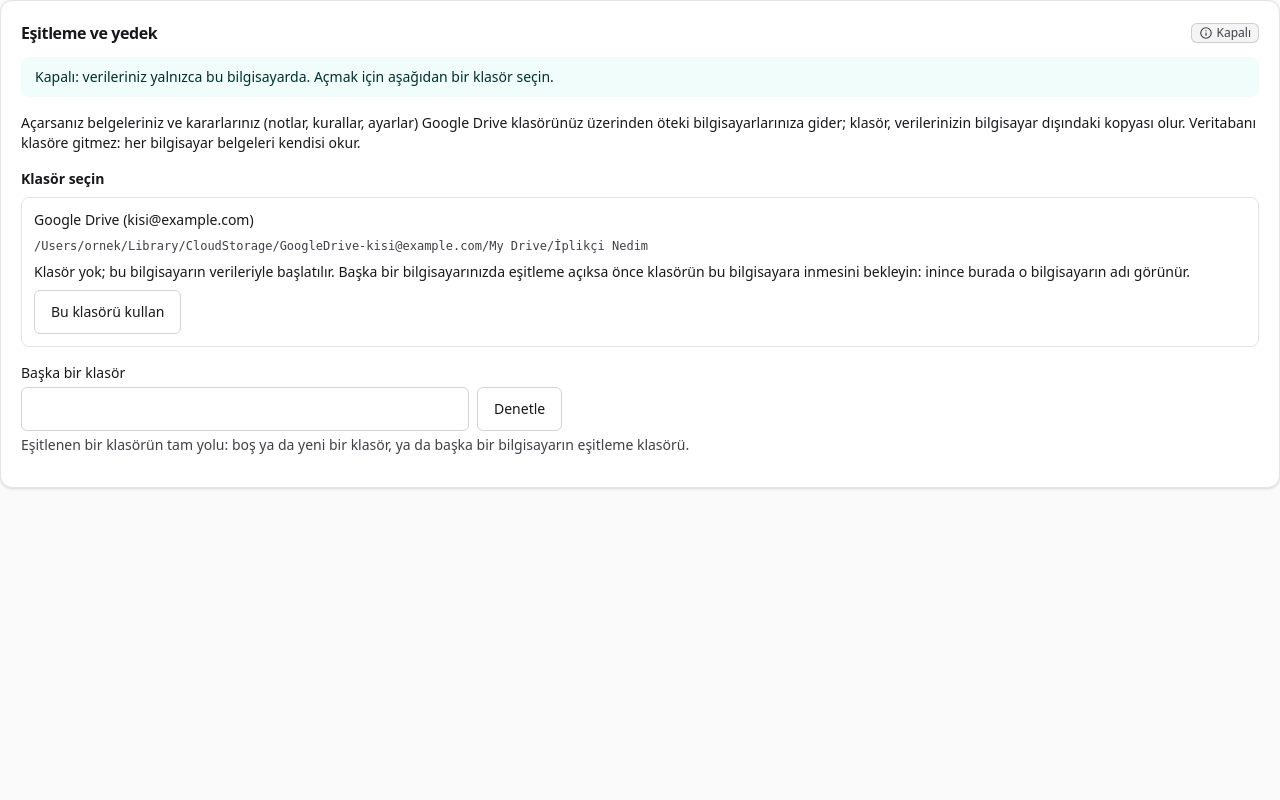
SyncCard while the sync is off › lists Google Drive's folder, says what turning the sync on there does, then turns it on
The width and height of the screenshot is (1280, 800).
Expected: the text "Kapalı" is shown, [1190,23,1259,43]
Expected: the text "Kapalı: verileriniz yalnızca bu bilgisayarda." is shown, [35,67,554,86]
Click the button with aria-label "Bu klasörü kullan: Google Drive (kisi@example.com)" at coordinates (108, 312), box [34,290,182,334]
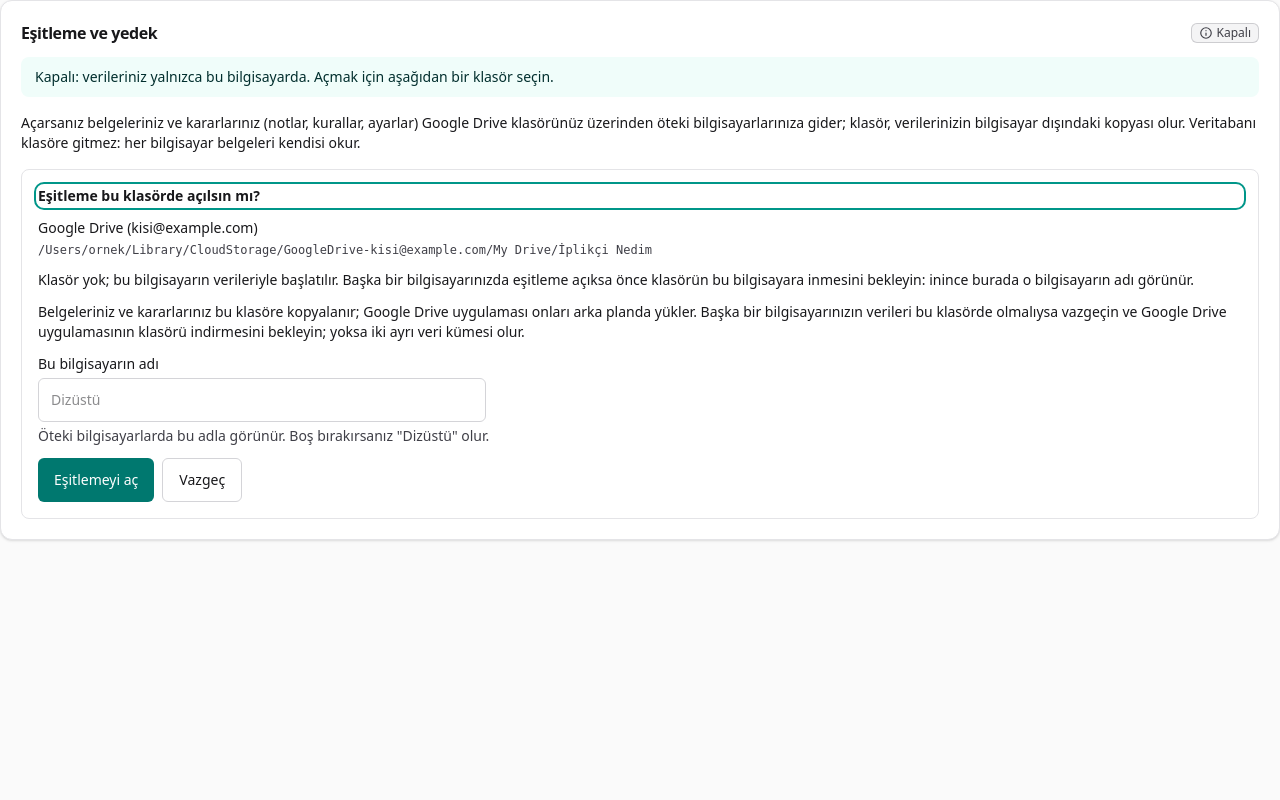
Now the text "yoksa iki ayrı veri kümesi olur." is shown, box [38,302,1227,341]
Click the button "Eşitlemeyi aç" at coordinates (96, 480), box [38,458,154,502]
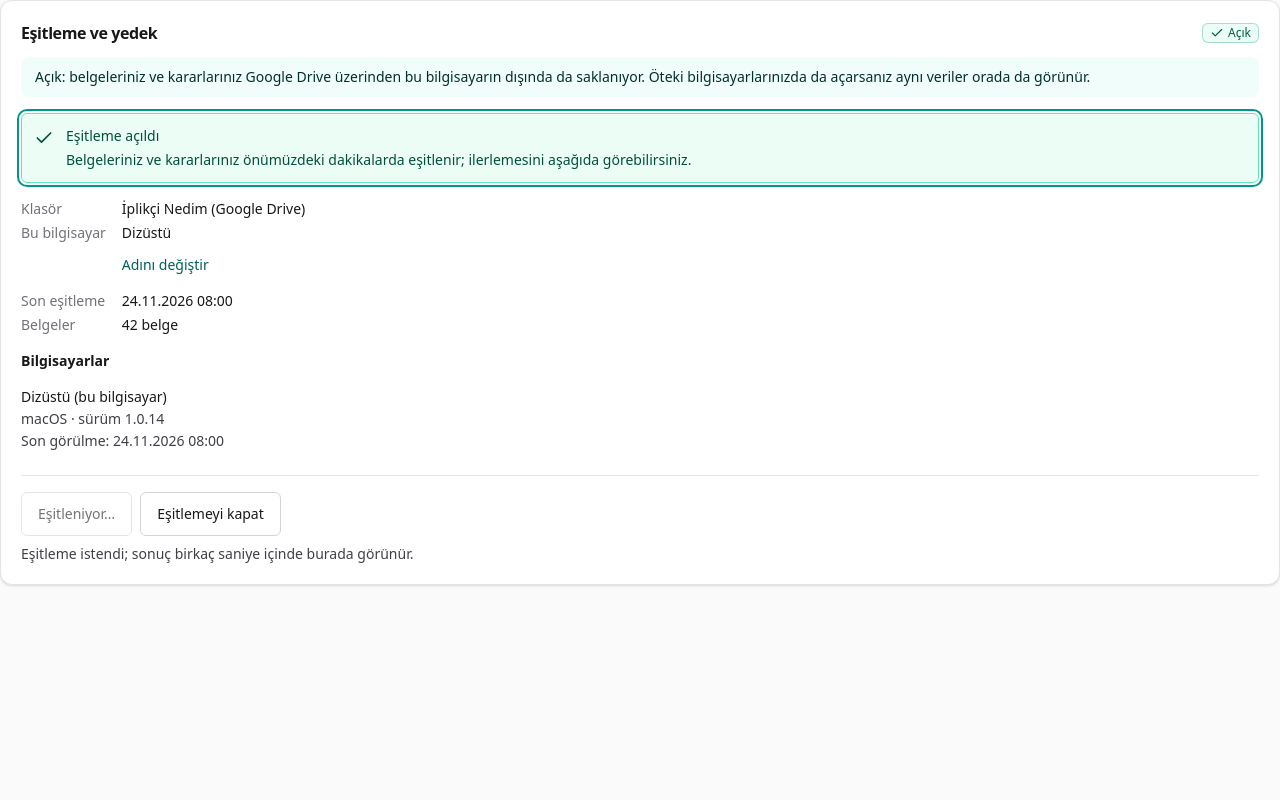
Now the text "Eşitleme açıldı" is shown, box [66,126,159,145]
Now the text "Açık" is shown, box [1202,23,1259,43]
Now the text "İplikçi Nedim (Google Drive)" is shown, box [122,199,305,218]
